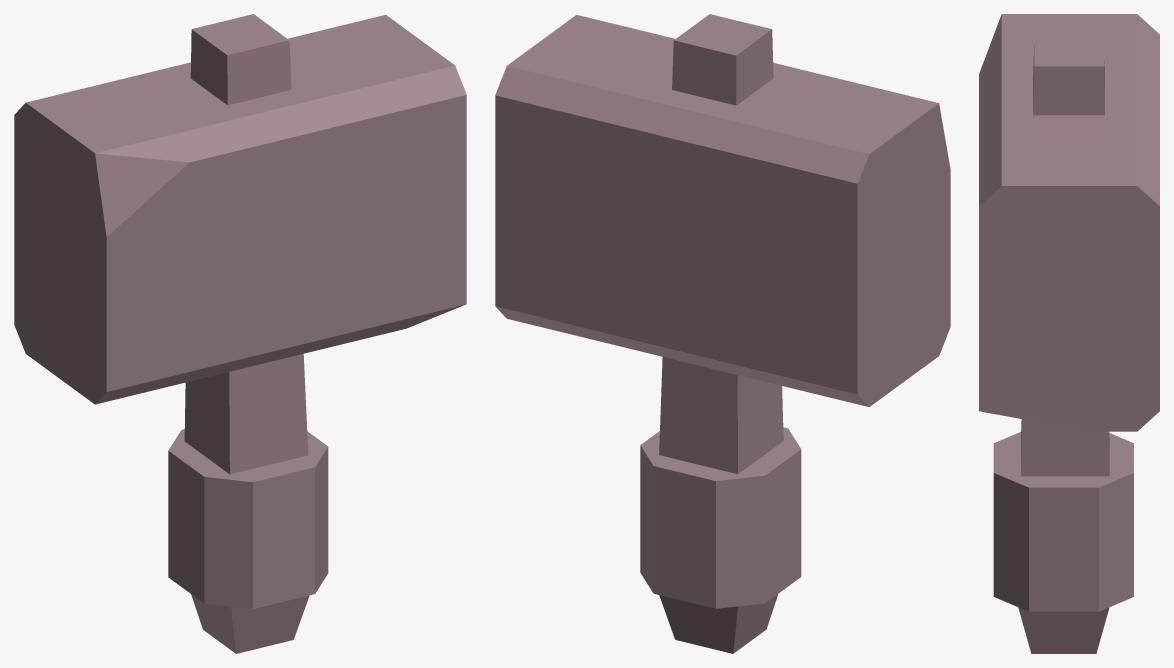
Rendered from tool-hammer-upgraded.obj.
3 views of the same model, side by side, from view 1: azimuth 30°, elevation 25°; view 2: azimuth 150°, elevation 25°; view 3: azimuth 270°, elevation 25° (orthographic). The views are drawn at different scales.
Size of the model in its own units: 0.1161 by 0.1846 by 0.0516.
